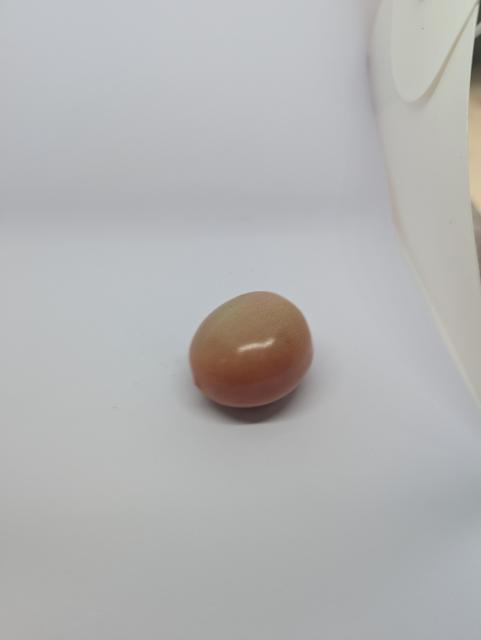turning: (181, 280, 317, 423)
